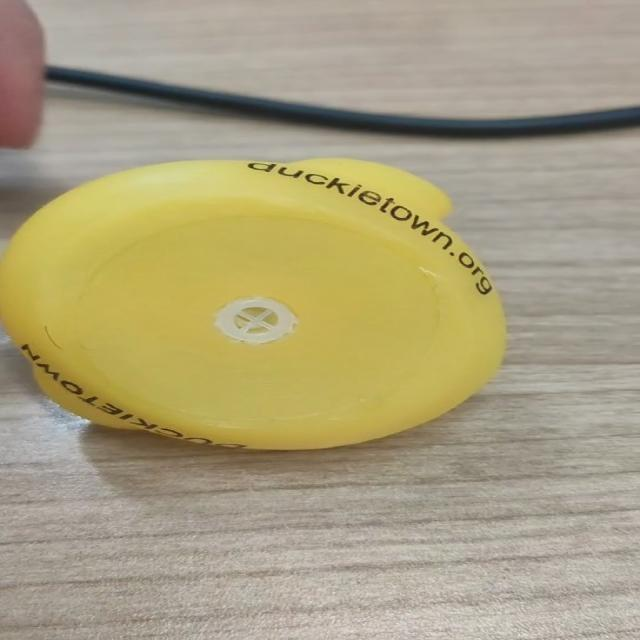rubber-duck: (0, 157, 503, 447)
